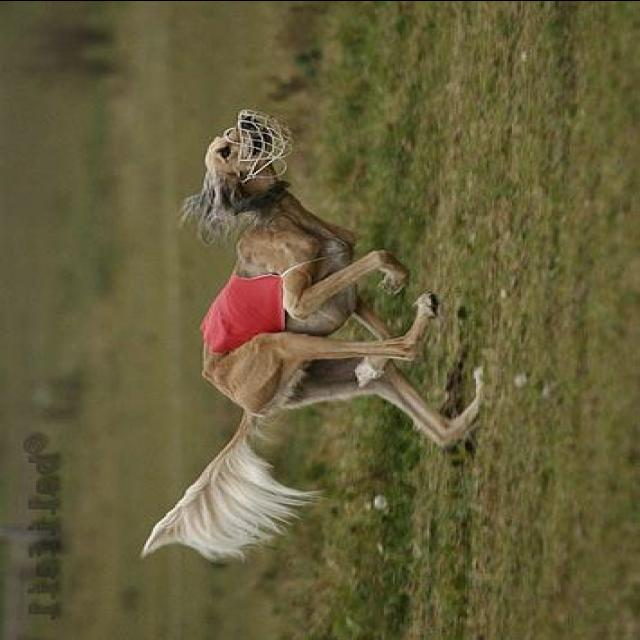saluki: (138, 108, 488, 560)
